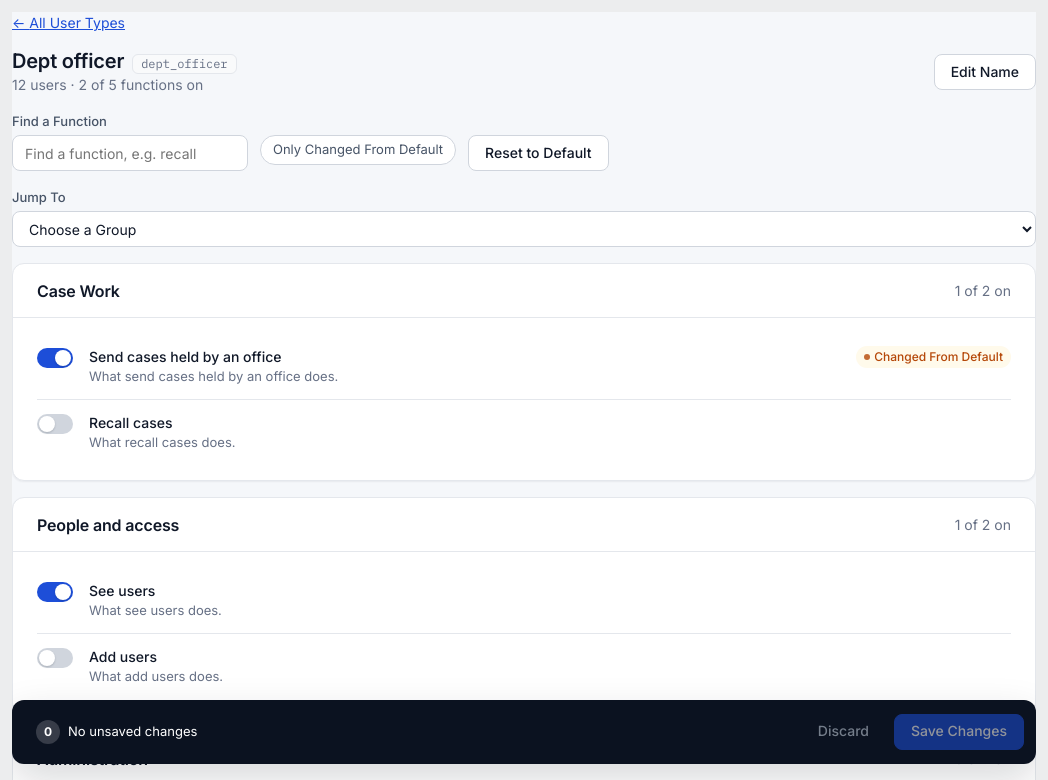
the user-type page (decisions 25-27) › the Save bar counts against the saved state; Discard clears; Reset to default changes the draft only
Expected: the switch named "See users" is shown, [37,582,73,602]
Expected: the text "No unsaved changes" is shown, [68,722,197,742]
Click the switch named "Add users". click: [55, 658]
box: [37,648,73,668]
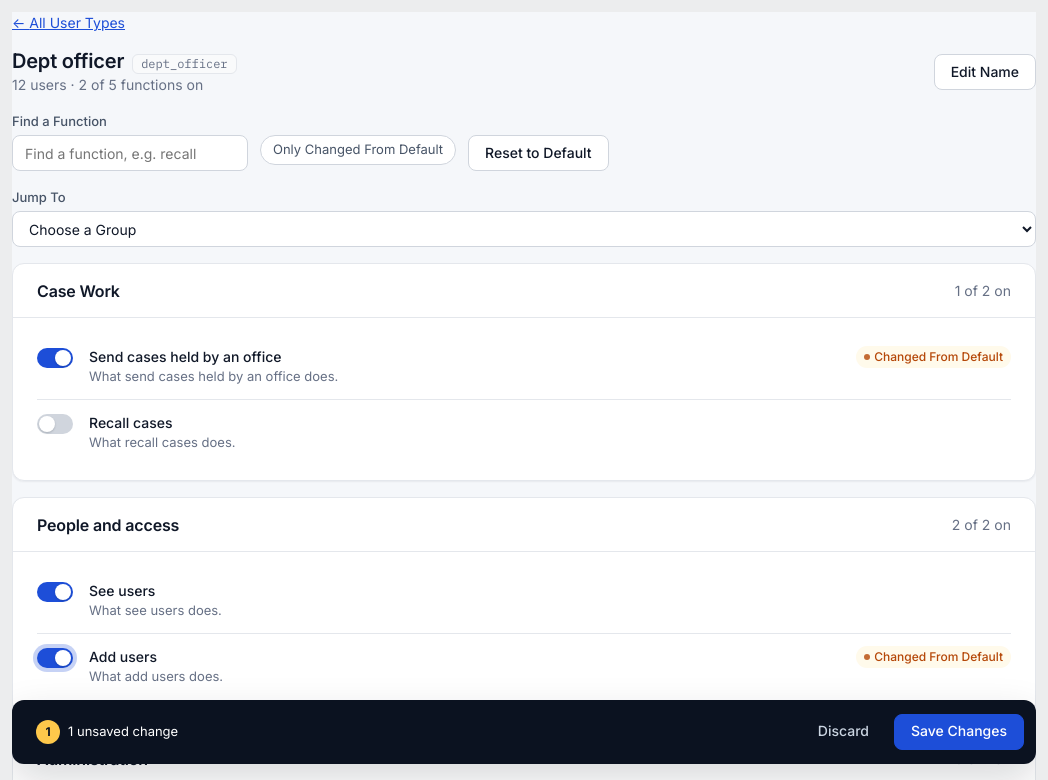
Click the switch named "Recall cases". click: [55, 424]
box: [37,414,73,434]
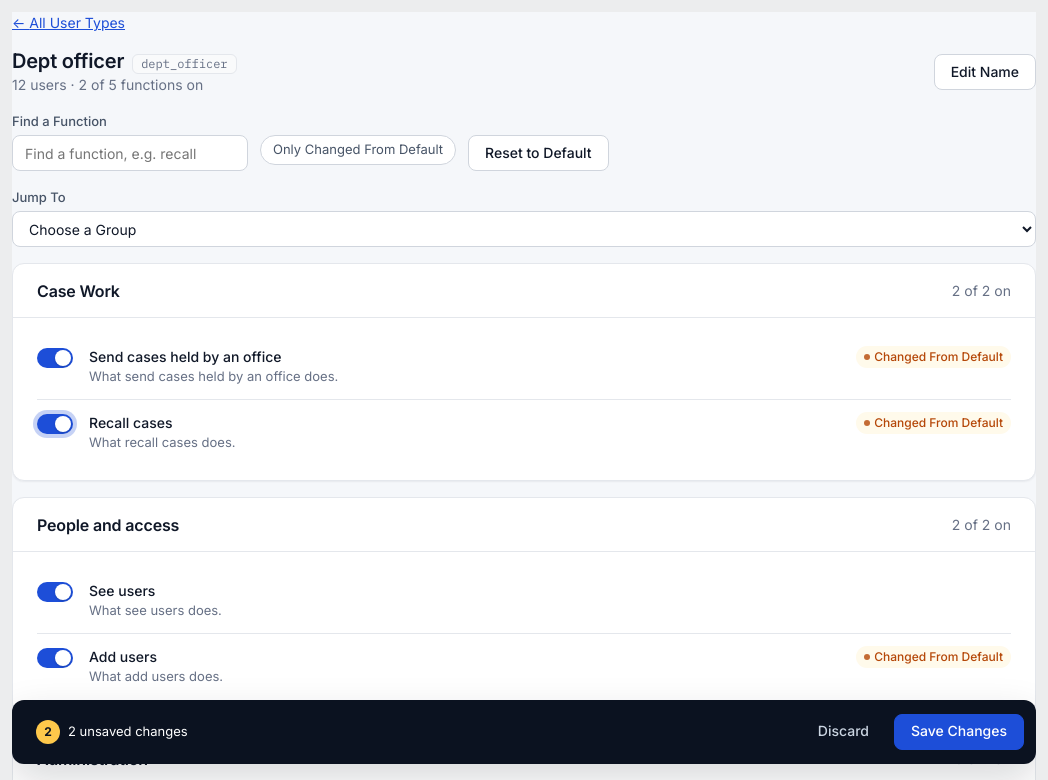
Expected: the text "2 unsaved changes" is shown, [68,722,188,742]
# switching one back counts against the saved state
Click the switch named "Recall cases". click: [55, 424]
box: [37,414,73,434]
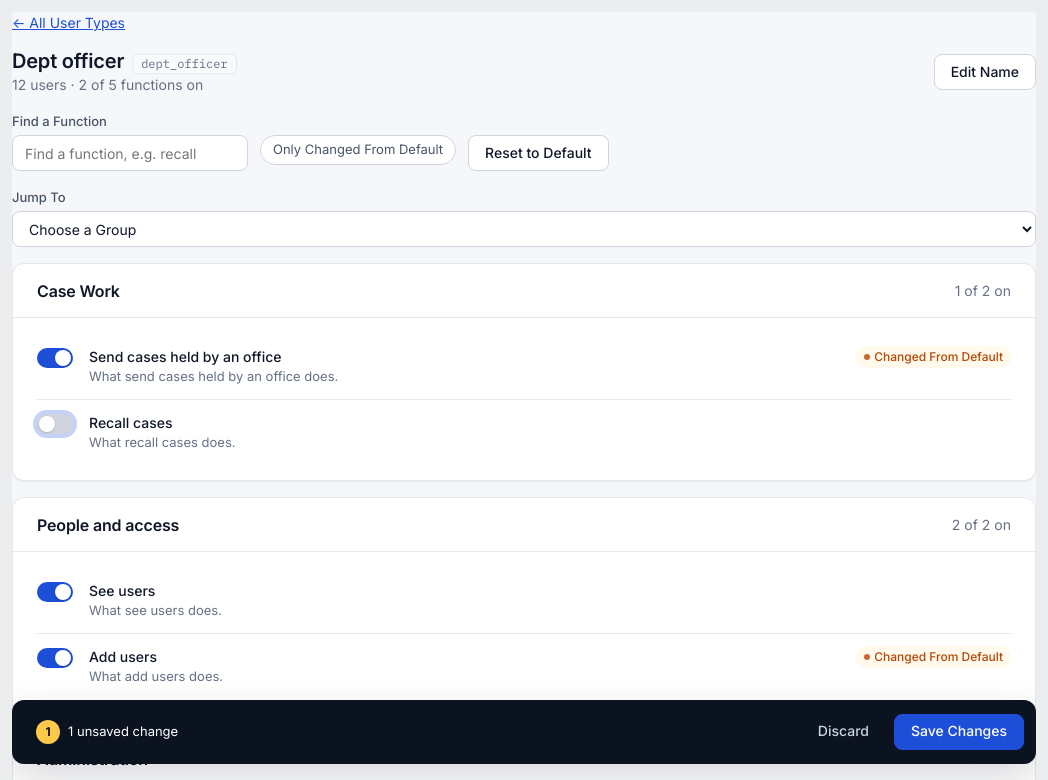
Expected: the text "1 unsaved change" is shown, [68,722,178,742]
Click the button "Discard". click: [843, 732]
box: [801,714,886,750]
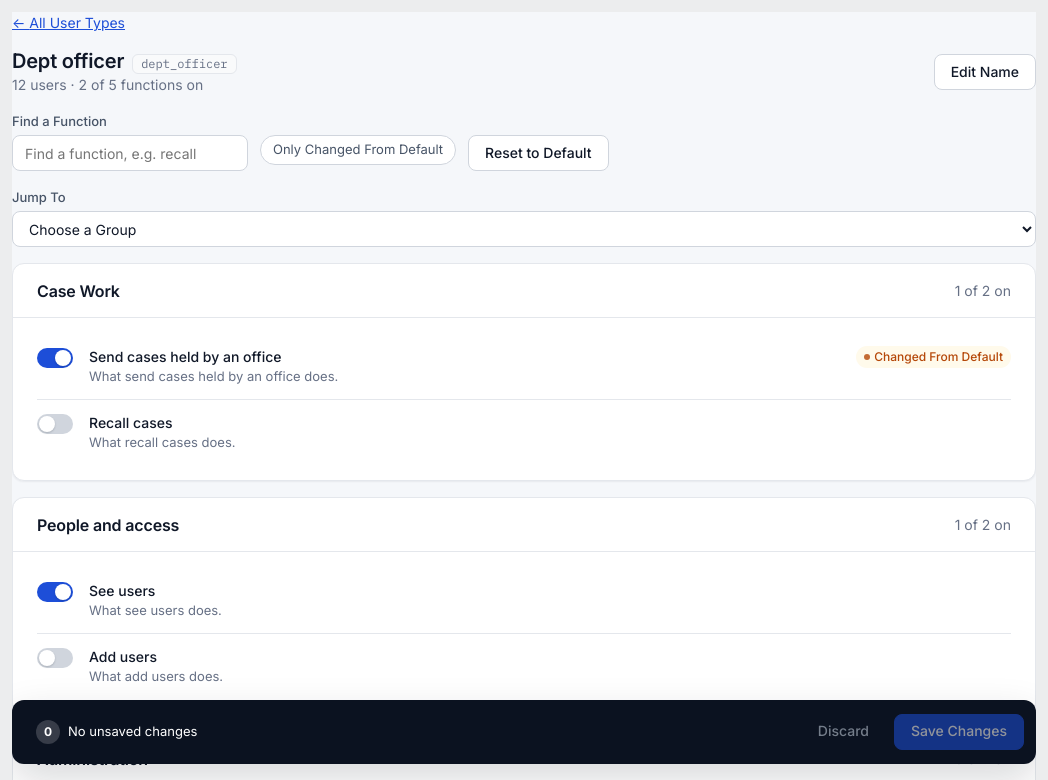
Expected: the text "No unsaved changes" is shown, [68,722,197,742]
# Reset to default: Send cases held by an office goes back to off, nothing is sent
Click the button "Reset to Default". click: [538, 153]
box: [468,135,609,171]
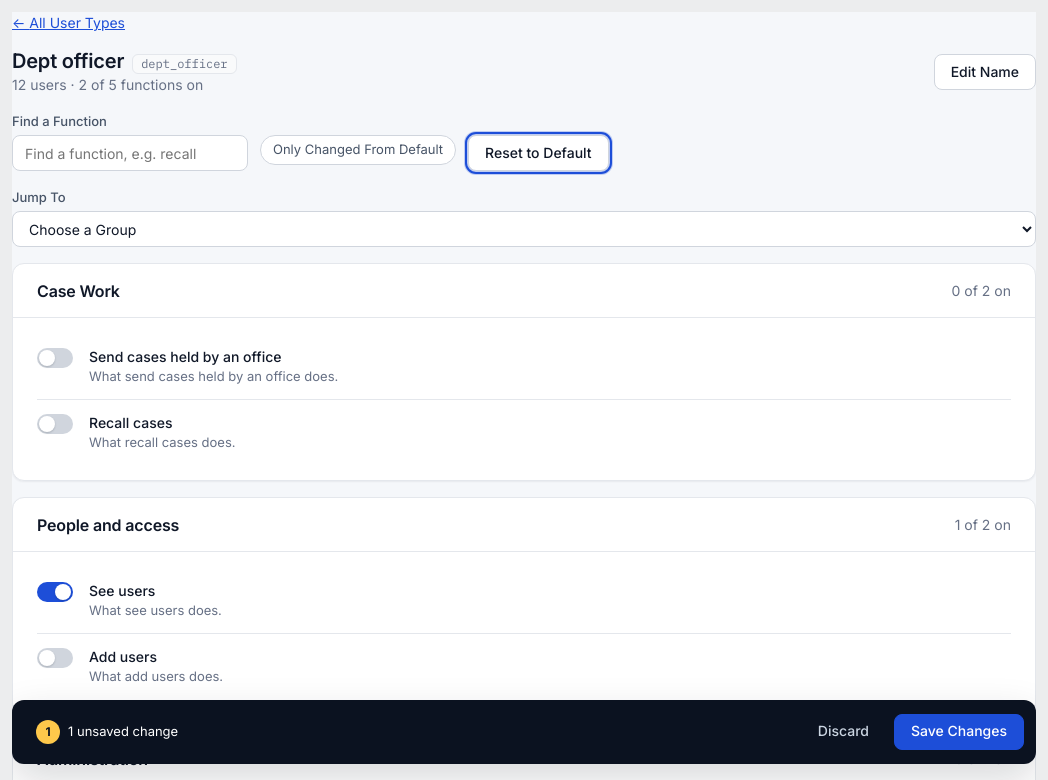
Expected: the text "1 unsaved change" is shown, [68,722,178,742]
